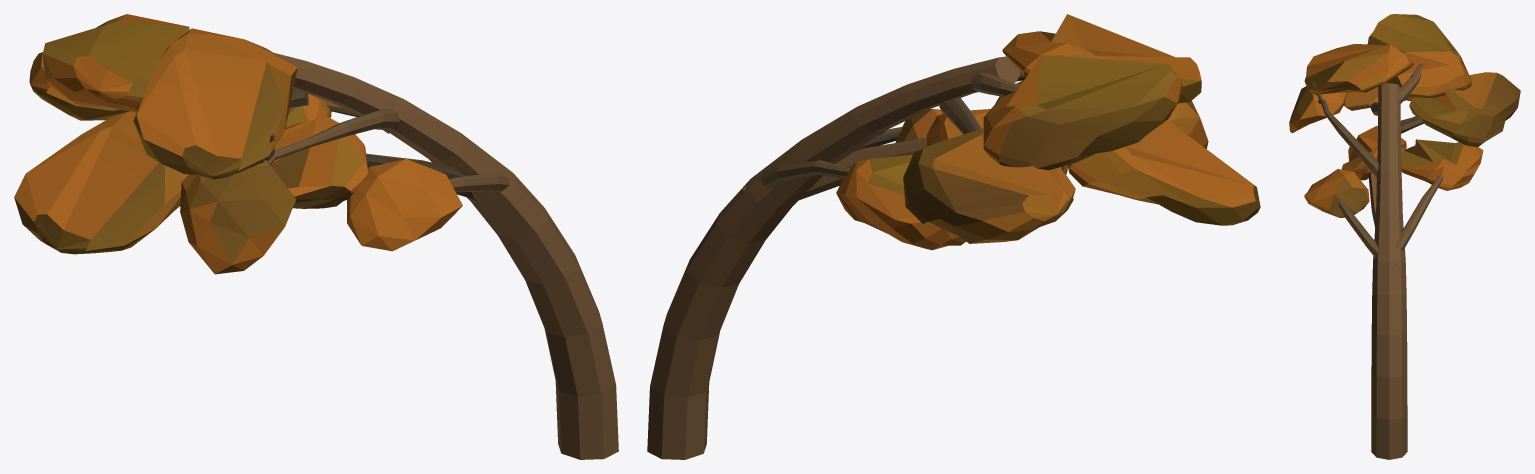
The model's file is Tree60Bend_Autumn.fbx.
3 views of the same model, side by side, from view 1: azimuth 30°, elevation 25°; view 2: azimuth 150°, elevation 25°; view 3: azimuth 270°, elevation 25° (orthographic). The views are drawn at different scales.
Parts seen in each view (by area): view 1: TreeBend60.002; view 2: TreeBend60.002; view 3: TreeBend60.002.
Part boxes in pixels (left/top/right/bottom): TreeBend60.002: left=14, top=14, right=618, bottom=459; TreeBend60.002: left=647, top=14, right=1260, bottom=459; TreeBend60.002: left=1289, top=14, right=1520, bottom=459.
Size of the model in its own units: 742 by 608 by 430.
